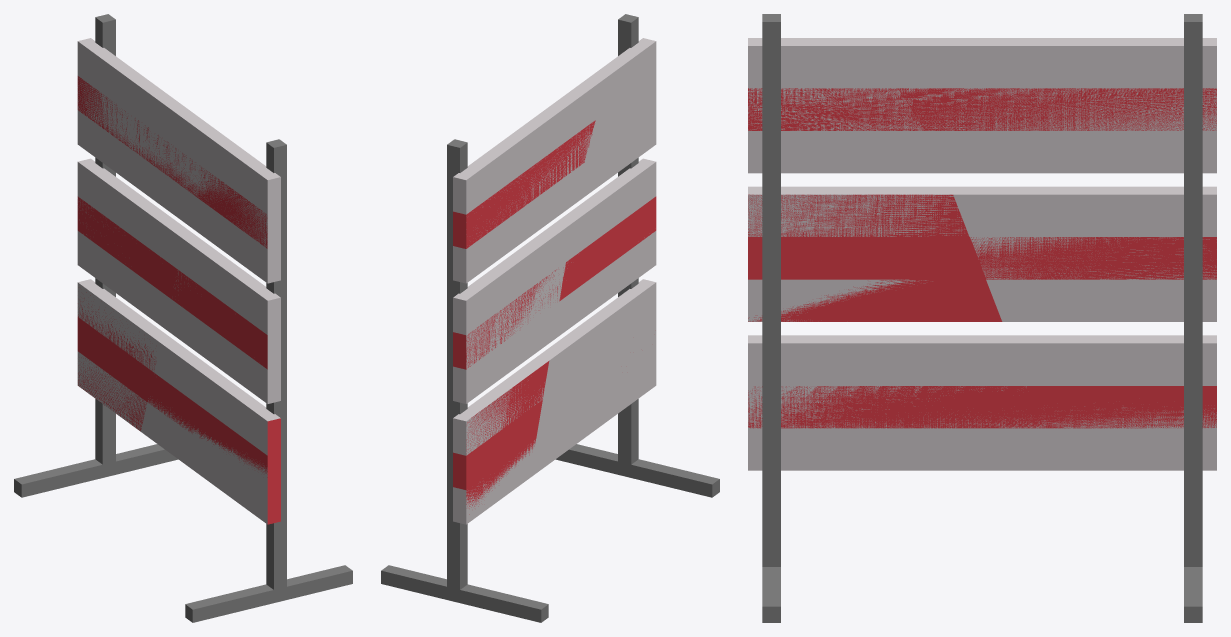
The model's file is barrier.fbx.
The picture shows the model from 3 angles, left to right: view 1: azimuth 30°, elevation 25°; view 2: azimuth 150°, elevation 25°; view 3: azimuth 270°, elevation 25°; orthographic projection. The views are drawn at different scales.
Visible parts, largest first — view 1: wood, wood_cell.008, wood_cell.002, metal_cell, metal_cell.002, metal, wood_cell.003, wood_cell.005, wood_cell.006, wood_cell, wood_cell.007; view 2: wood, wood_cell.008, metal, wood_cell.005, wood_cell.003, wood_cell.006, wood_cell.002, wood_cell, metal_cell.002, metal_cell; view 3: wood, wood_cell.002, metal, wood_cell.007, wood_cell.005, wood_cell.003, wood_cell.008, wood_cell, wood_cell.006, metal_cell.002, metal_cell.
Boxes of the visible parts, <box> form: wood: <box>77,41,280,477</box>; wood_cell.008: <box>141,342,280,524</box>; wood_cell.002: <box>77,38,230,202</box>; metal_cell: <box>185,143,320,622</box>; metal_cell.002: <box>14,14,178,497</box>; metal: <box>14,17,352,622</box>; wood_cell.003: <box>191,150,280,283</box>; wood_cell.005: <box>77,158,196,287</box>; wood_cell.006: <box>77,279,173,430</box>; wood_cell: <box>77,121,191,224</box>; wood_cell.007: <box>165,248,280,403</box>; wood: <box>453,38,656,524</box>; wood_cell.008: <box>530,282,656,476</box>; metal: <box>381,14,719,622</box>; wood_cell.005: <box>453,219,571,403</box>; wood_cell.003: <box>576,41,656,202</box>; wood_cell.006: <box>453,357,549,514</box>; wood_cell.002: <box>453,74,606,245</box>; wood_cell: <box>466,175,580,281</box>; metal_cell.002: <box>381,139,548,617</box>; metal_cell: <box>588,17,719,497</box>; wood: <box>748,38,1216,470</box>; wood_cell.002: <box>870,38,1216,139</box>; metal: <box>762,14,1202,622</box>; wood_cell.007: <box>748,193,1002,321</box>; wood_cell.005: <box>953,186,1216,318</box>; wood_cell.003: <box>748,46,944,173</box>; wood_cell.008: <box>748,335,1053,470</box>; wood_cell: <box>934,140,1216,173</box>; wood_cell.006: <box>1011,335,1216,470</box>; metal_cell.002: <box>1184,14,1202,616</box>; metal_cell: <box>762,22,780,278</box>.
Bounding box in the file's own units: 97.24 × 264 × 200.
